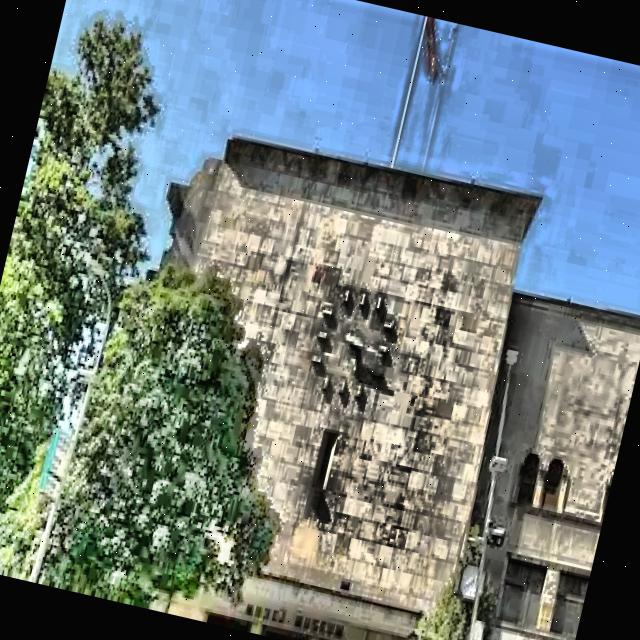old railway: (87, 110, 640, 640)
